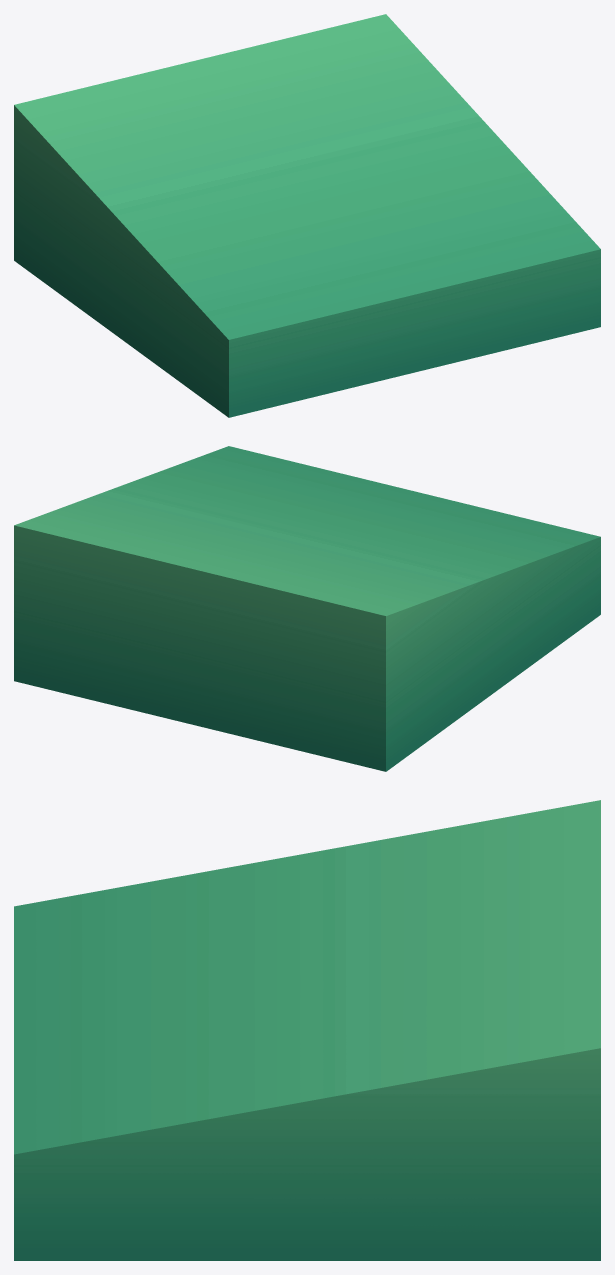
Rendered from kenney-tower-defense-tile-slope.glb.
3 views of the same model, one above another, from view 1: azimuth 30°, elevation 25°; view 2: azimuth 150°, elevation 25°; view 3: azimuth 270°, elevation 25° (orthographic). The views are drawn at different scales.
Parts seen in each view (by area): view 1: tile-slope; view 2: tile-slope; view 3: tile-slope.
Boxes of the visible parts, left/top/right/bottom form: tile-slope: left=14, top=14, right=600, bottom=417; tile-slope: left=14, top=446, right=600, bottom=771; tile-slope: left=14, top=800, right=600, bottom=1260.
Size of the model in its own units: 1 by 0.3999 by 1.
Materials: 1 (1 with a texture image).
